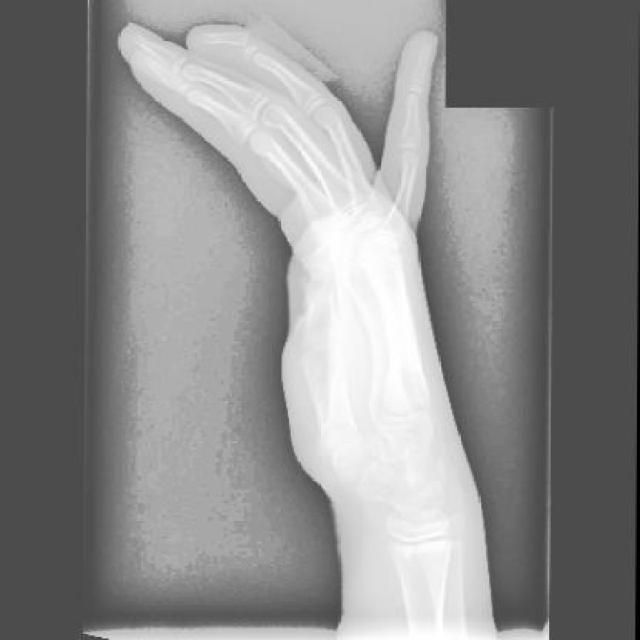Fracture: (234, 28, 259, 64)
